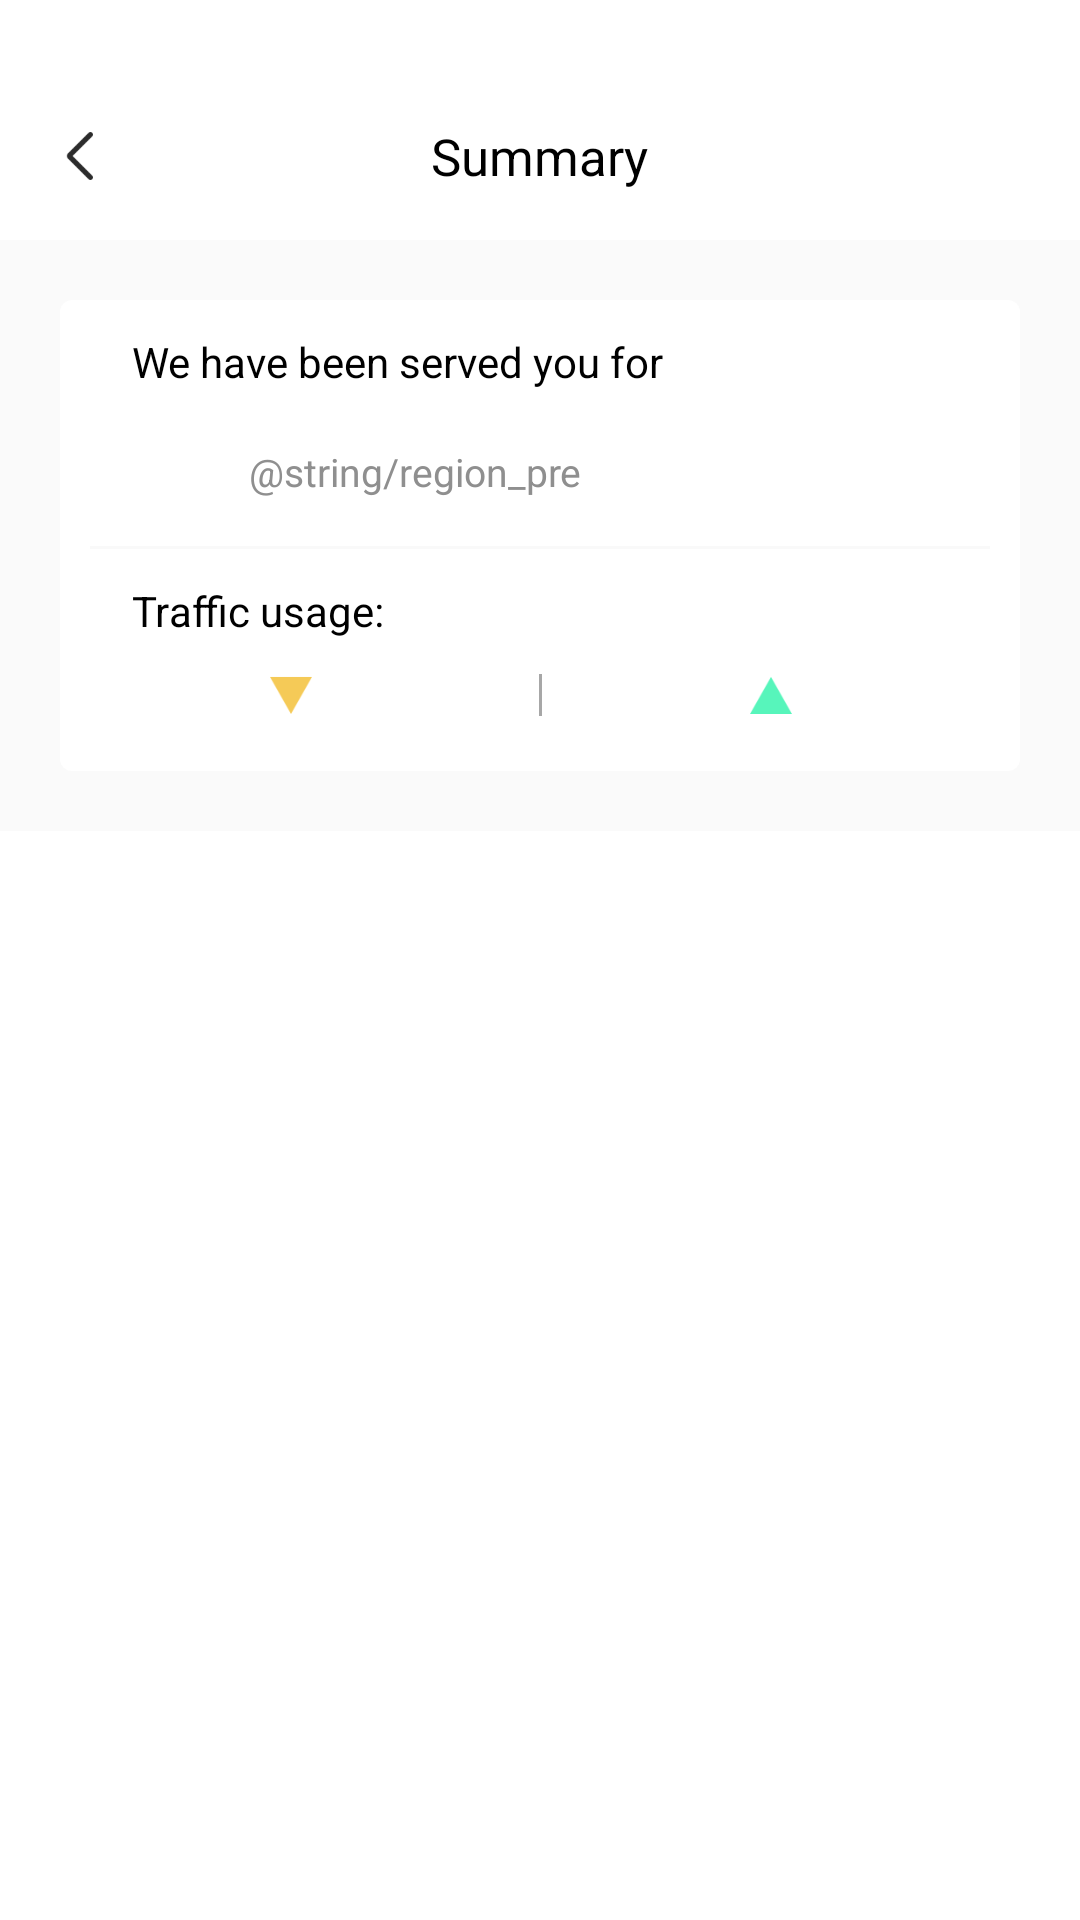

Named icons in this screenshot (1080×1920) and their bounding boxes, (x1, y1, x2, y2):
download: (270, 677, 312, 714)
upload: (750, 677, 792, 714)
